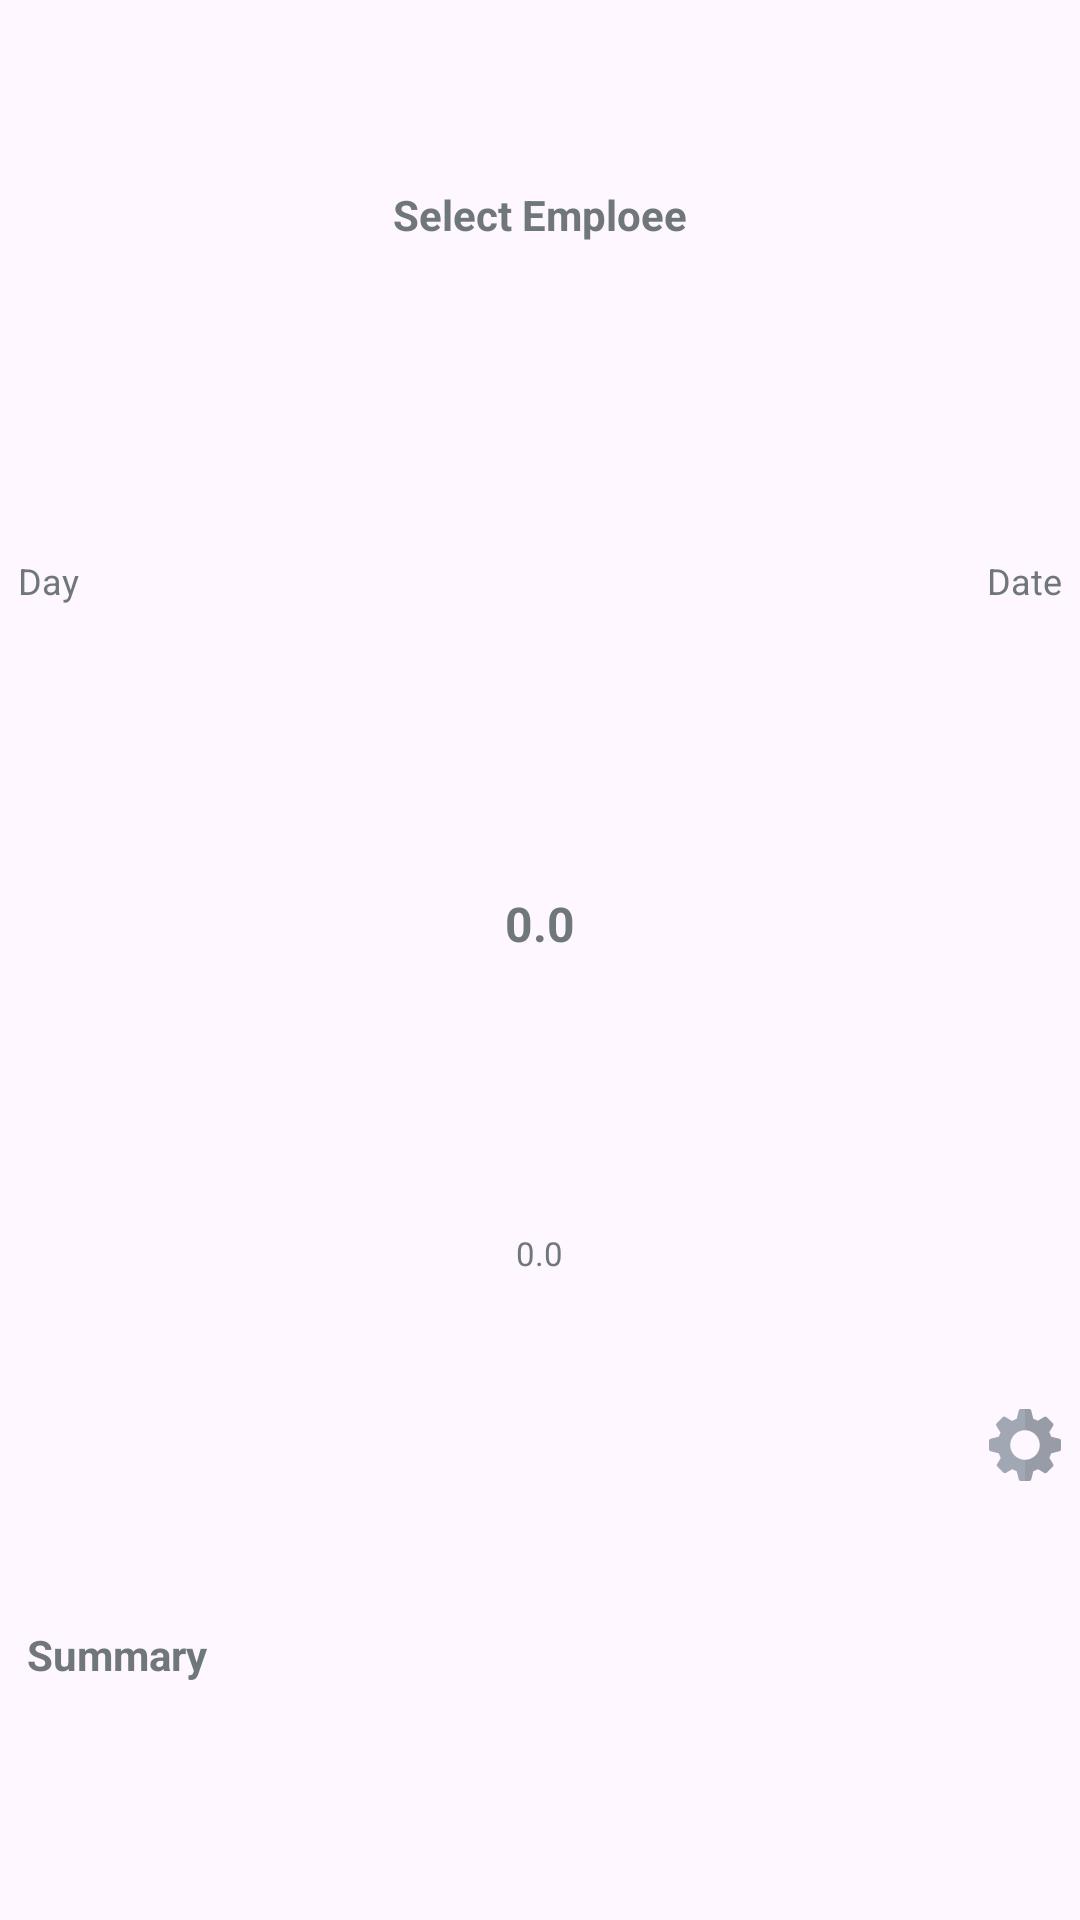

Icons on this 1080x1920 Android screen, each with its box as Rect(x1, y1, x2, y2):
settings: Rect(989, 1409, 1061, 1481)
